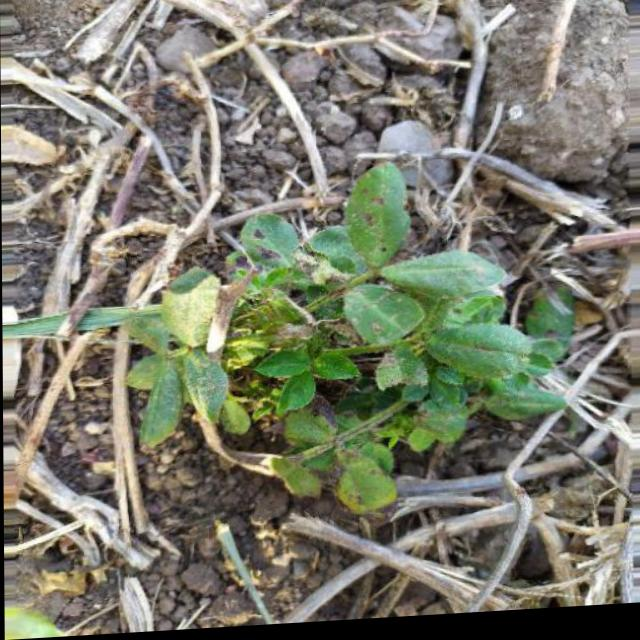weed: (145, 151, 559, 525)
